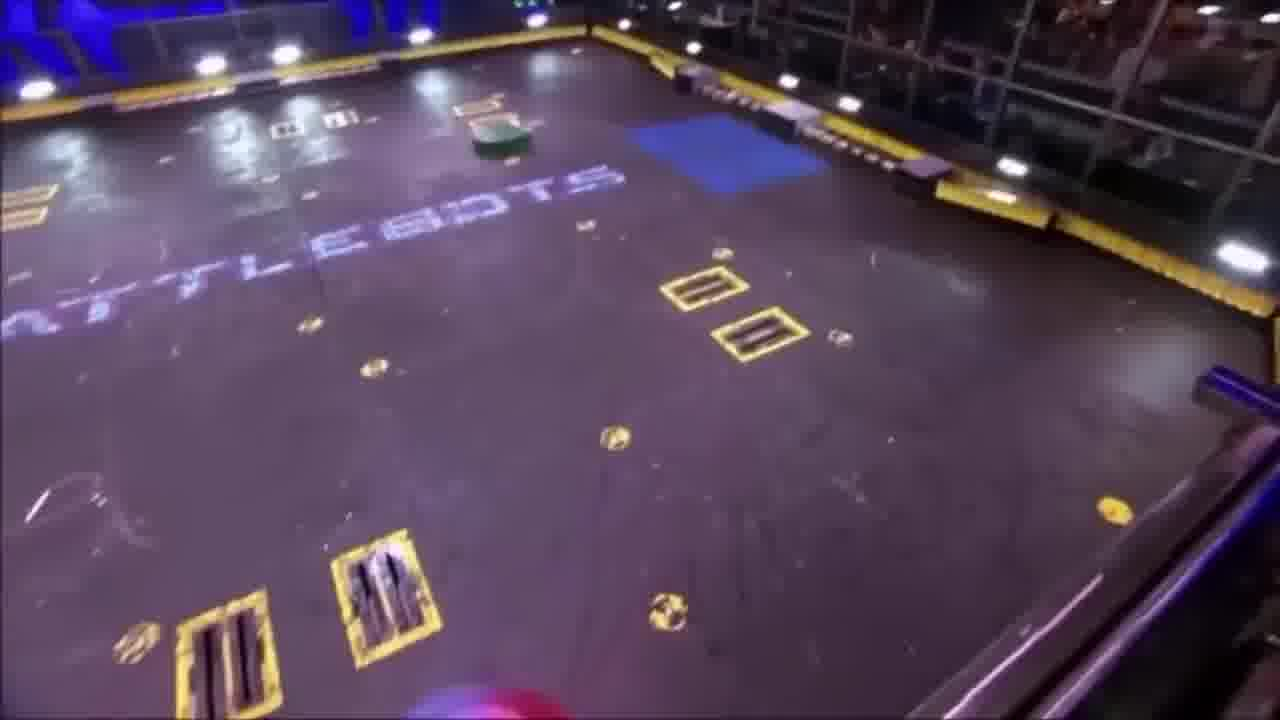combatbot: (461, 112, 533, 162)
